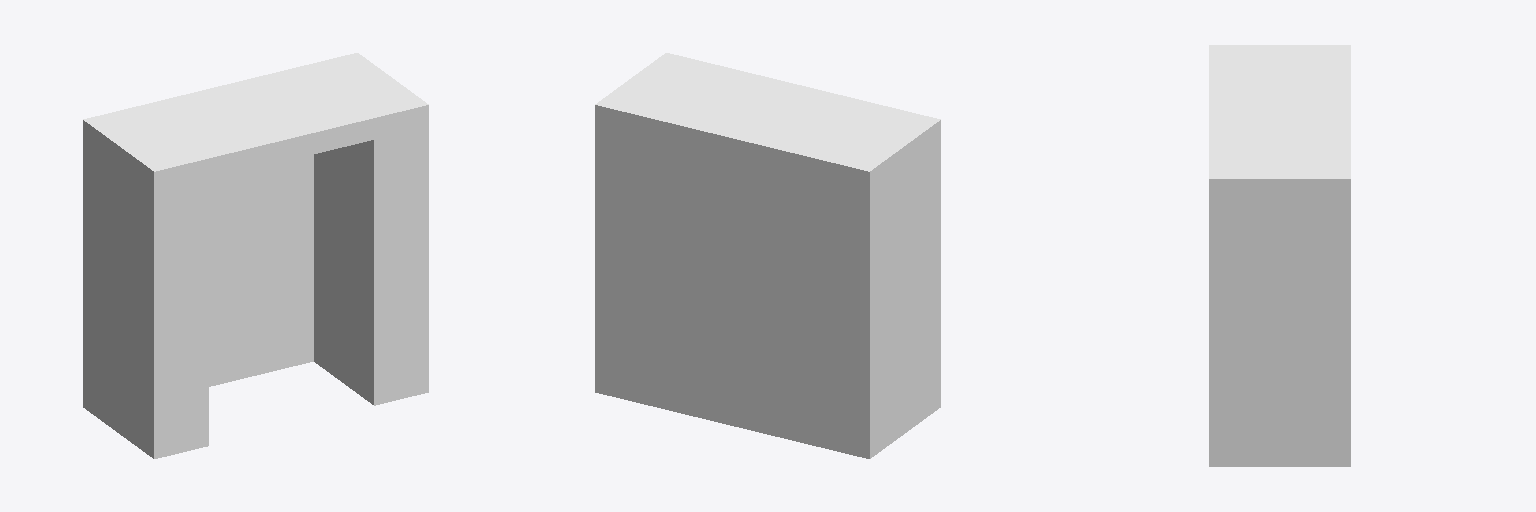
Rendered from entrance2-0-lod3.obj.
3 views of the same model, side by side, from view 1: azimuth 30°, elevation 25°; view 2: azimuth 150°, elevation 25°; view 3: azimuth 270°, elevation 25° (orthographic).
Parts seen in each view (by area): view 1: lod3; view 2: lod3; view 3: lod3.
Boxes of the visible parts, box(x1,y1,x2,y2) form: lod3: box(83, 53, 428, 458); lod3: box(595, 53, 940, 458); lod3: box(1209, 45, 1350, 466).
Size of the model in its own units: 16 by 16 by 7.2.